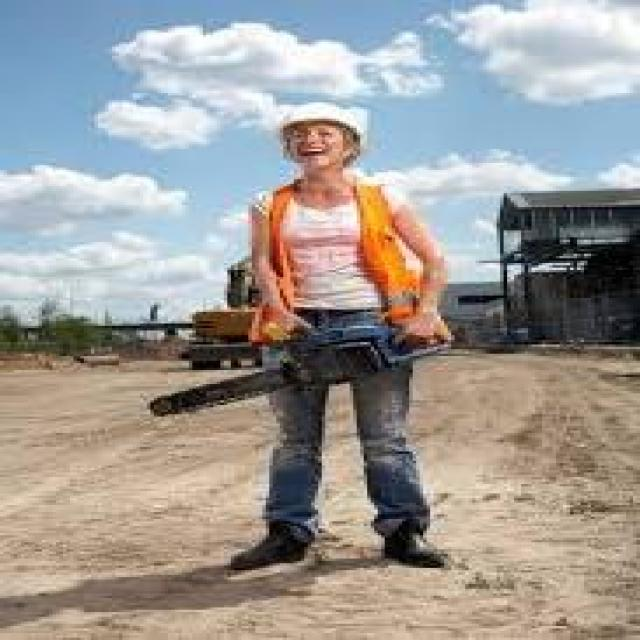Reflective-Jacket: (227, 175, 437, 349)
Safety-Helmet: (258, 91, 384, 151)
